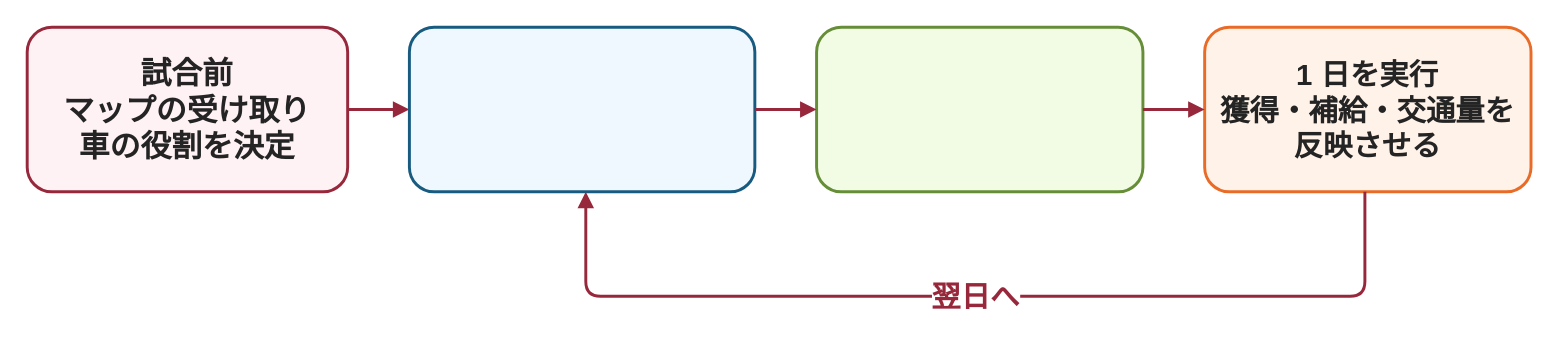
Some shapes in this 1557 by 338 pixel diagram are drawn without their labels. Each missing label, with the box of its shape:
各日の開始 位置・燃料・道路状態の受け取り: (407, 25, 756, 193)
行動計画を提出 全車の移動を行う: (814, 25, 1144, 193)
